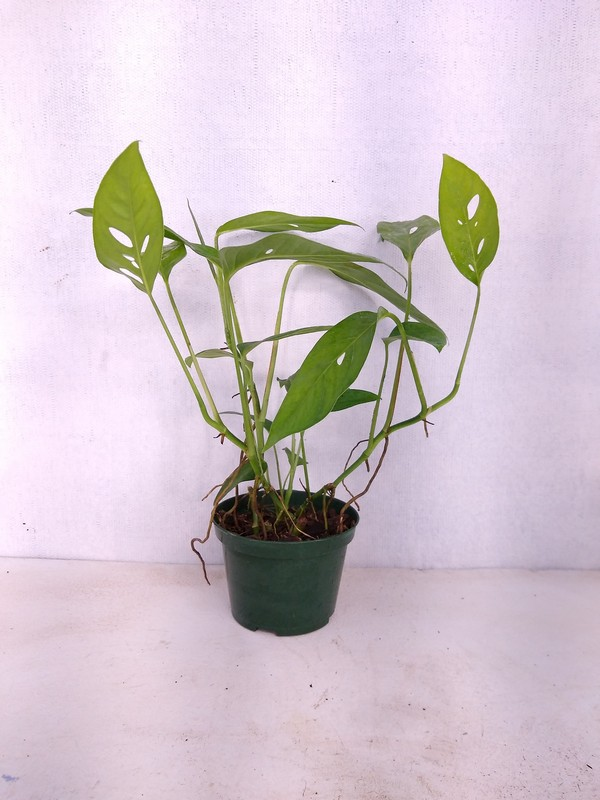plant: (67, 137, 502, 537)
pot: (211, 489, 359, 639)
